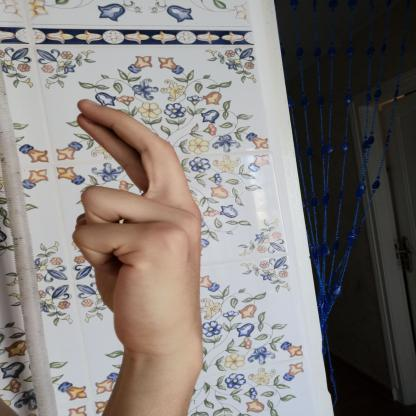ZAY: (62, 92, 220, 374)
